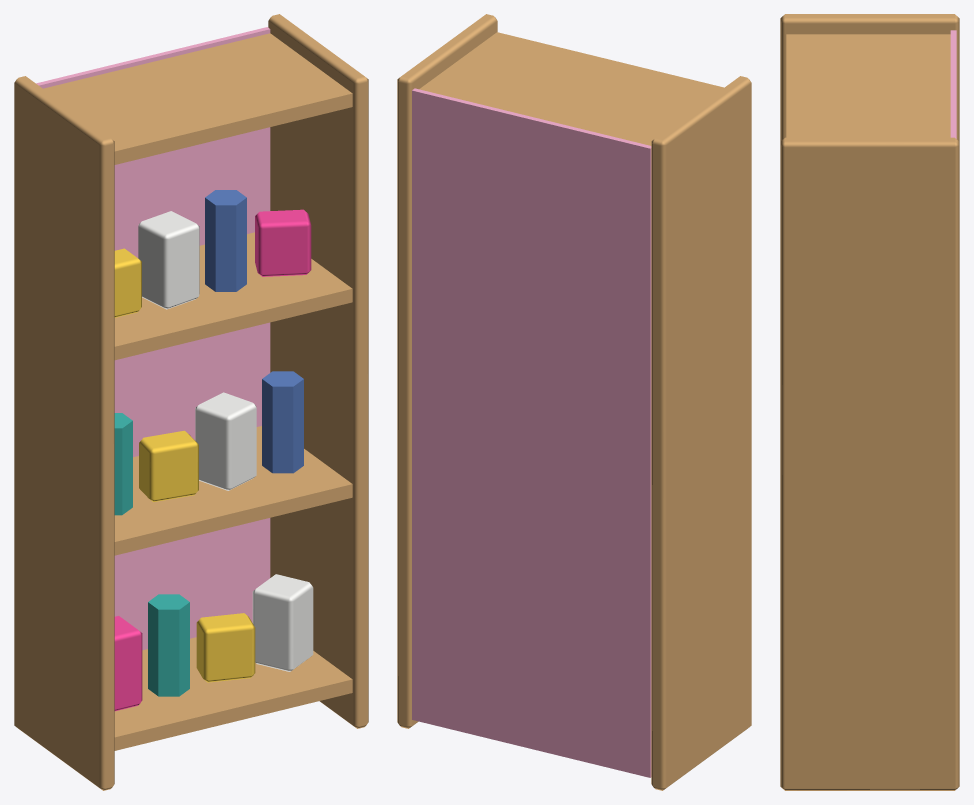
The model's file is station_special_ausstattung_2_1.glb.
The picture shows the model from 3 angles, left to right: view 1: azimuth 30°, elevation 25°; view 2: azimuth 150°, elevation 25°; view 3: azimuth 270°, elevation 25°; orthographic projection.
Parts seen in each view (by area): view 1: station_special_ausstattung_2_1; view 2: station_special_ausstattung_2_1; view 3: station_special_ausstattung_2_1.
Boxes of the visible parts, bbox=[...] form: station_special_ausstattung_2_1: bbox=[14, 14, 368, 790]; station_special_ausstattung_2_1: bbox=[397, 14, 751, 790]; station_special_ausstattung_2_1: bbox=[780, 14, 959, 790].
Bounding box in the file's own units: 0.52 × 1.2 × 0.3.
